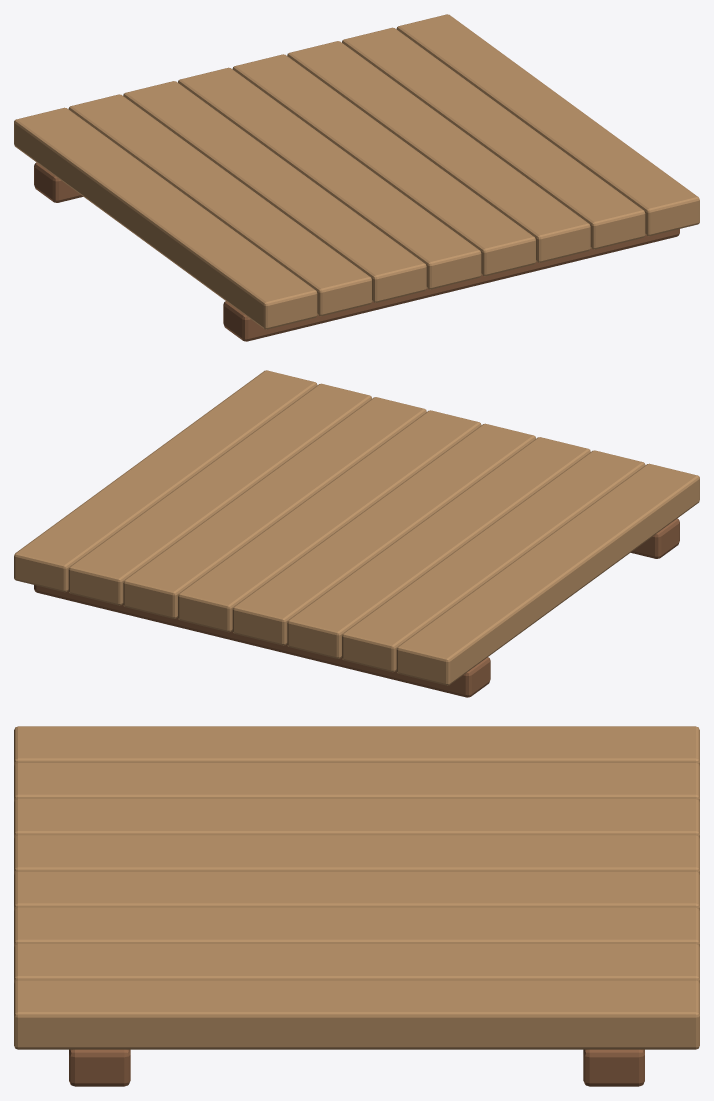
Rendered from castle_walkway_timber_2m.glb.
3 views of the same model, one above another, from view 1: azimuth 30°, elevation 25°; view 2: azimuth 150°, elevation 25°; view 3: azimuth 270°, elevation 25° (orthographic). The views are drawn at different scales.
Parts seen in each view (by area): view 1: castle_walkway_timber_2m; view 2: castle_walkway_timber_2m; view 3: castle_walkway_timber_2m.
Boxes of the visible parts, left/top/right/bottom form: castle_walkway_timber_2m: left=14, top=14, right=699, bottom=341; castle_walkway_timber_2m: left=14, top=370, right=699, bottom=697; castle_walkway_timber_2m: left=14, top=726, right=699, bottom=1086.
Bounding box in the file's own units: 2 × 0.24 × 2.
